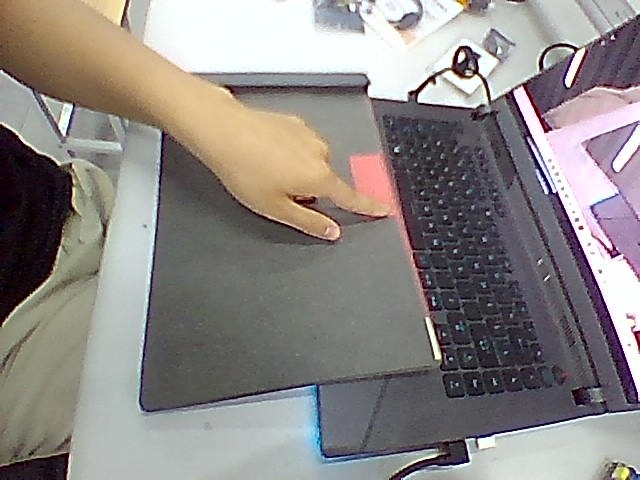card: (350, 153, 399, 215)
